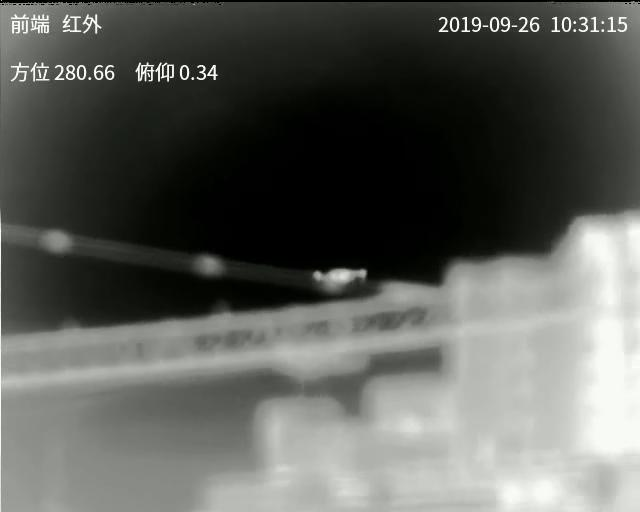uav: (310, 268, 368, 285)
